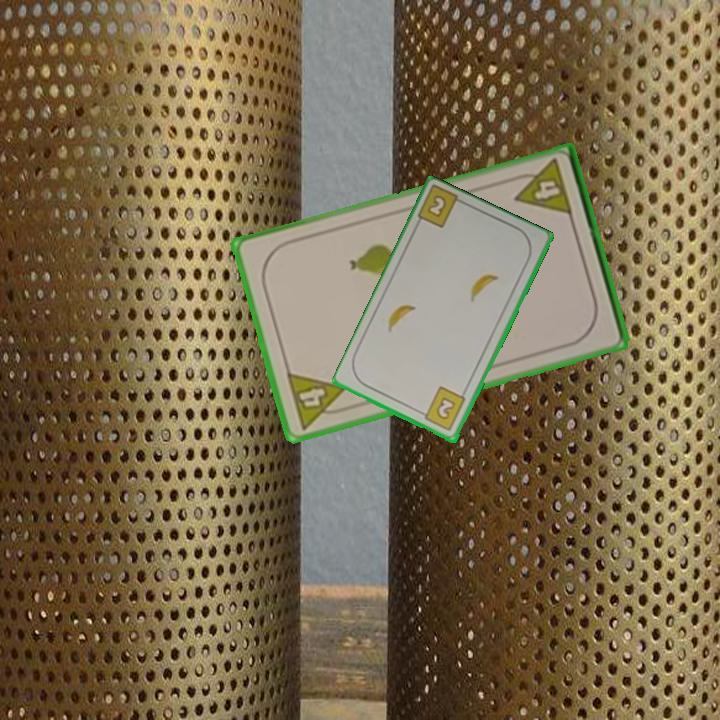2b: (416, 384, 468, 434), (424, 192, 450, 221)
4p: (283, 368, 353, 433), (507, 156, 575, 219)
